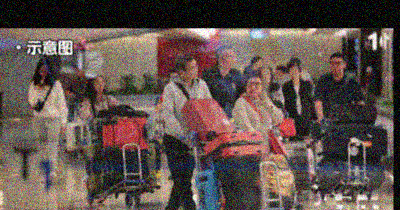without_mask: (245, 79, 263, 97), (223, 52, 236, 69), (330, 59, 343, 74), (187, 62, 198, 79), (94, 78, 105, 91), (260, 70, 271, 83), (39, 67, 49, 78), (288, 68, 299, 78), (252, 60, 262, 70), (275, 70, 284, 80)
